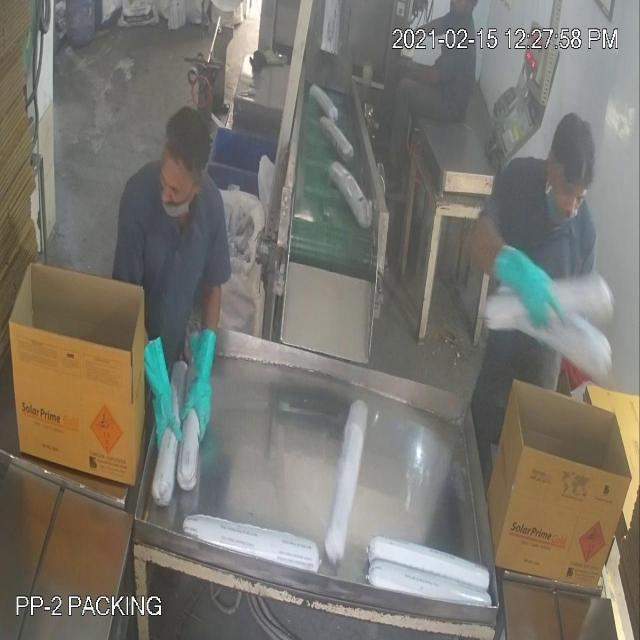Gloves: (48, 135, 526, 388)
